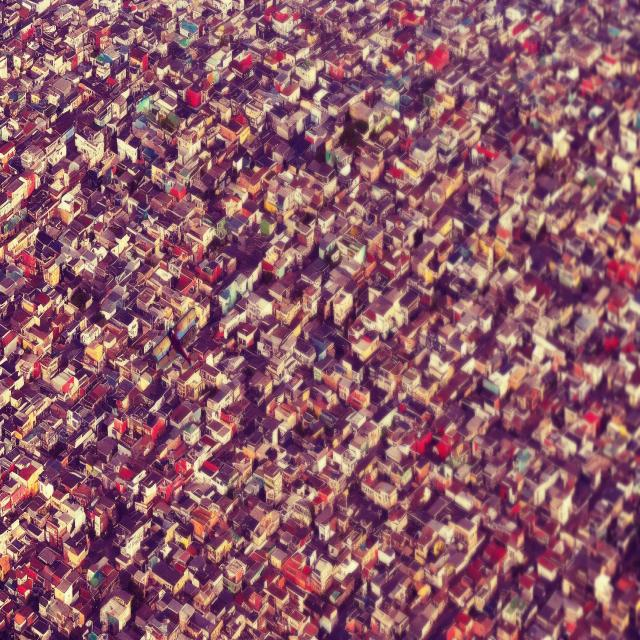airplane: (152, 306, 198, 366)
